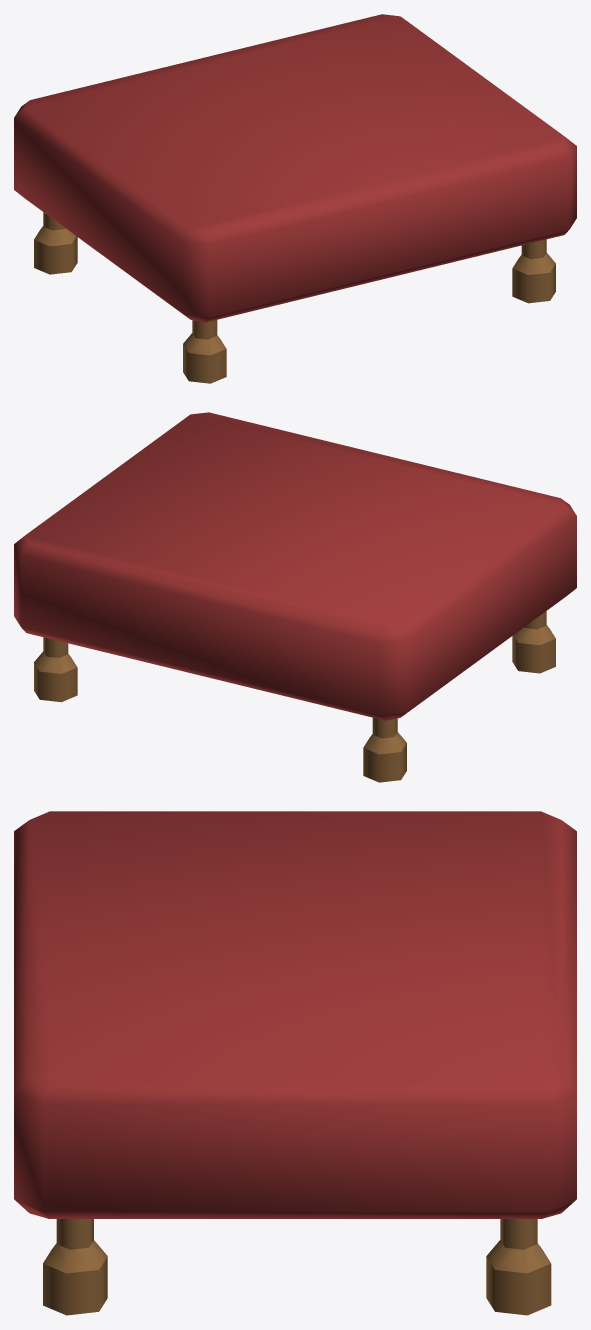
File: 12_furniture_sofa3.FBX
The picture shows the model from 3 angles, top to bottom: view 1: azimuth 30°, elevation 25°; view 2: azimuth 150°, elevation 25°; view 3: azimuth 270°, elevation 25°; orthographic projection. The views are drawn at different scales.
Parts seen in each view (by area): view 1: furniture_sofa3; view 2: furniture_sofa3; view 3: furniture_sofa3.
Boxes of the visible parts, box(x1,y1,x2,y2) form: furniture_sofa3: box(14, 14, 576, 383); furniture_sofa3: box(14, 412, 576, 782); furniture_sofa3: box(14, 811, 576, 1315).
Size of the model in its own units: 40.38 by 15.46 by 33.64.
